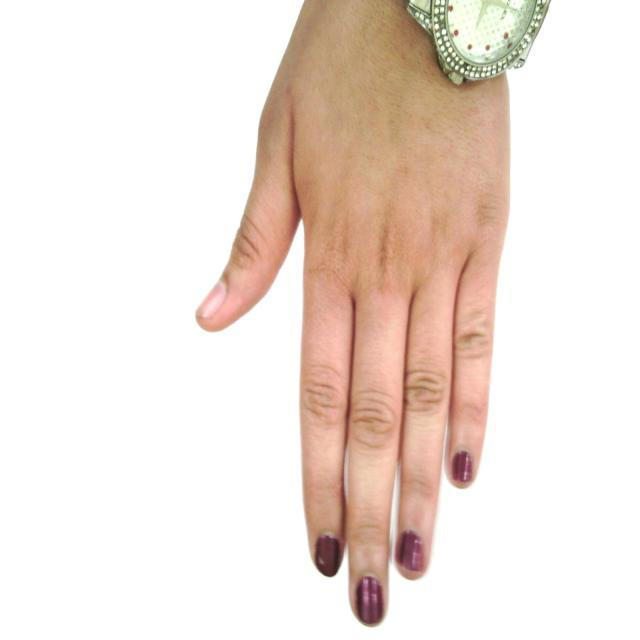Fingernail: (357, 576, 383, 626), (197, 280, 226, 319), (399, 531, 424, 571), (316, 536, 340, 576), (453, 452, 473, 485)
